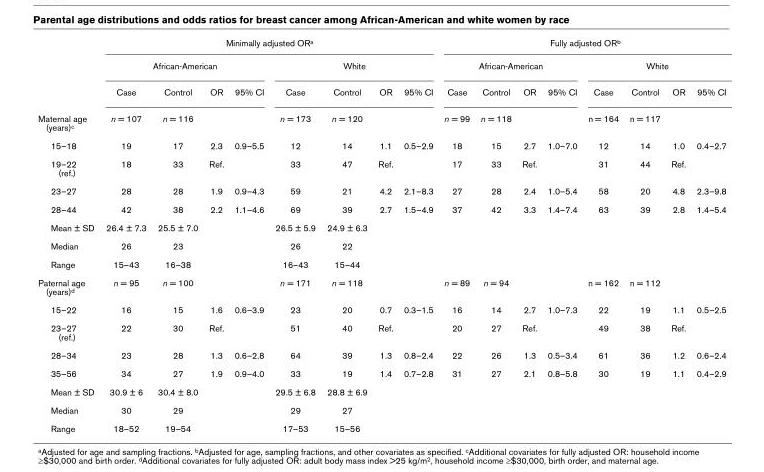table: (37, 36, 725, 433)
table column: (37, 36, 99, 433), (99, 36, 151, 433), (268, 36, 320, 433), (320, 36, 372, 433), (151, 36, 202, 433), (474, 36, 516, 433), (581, 36, 623, 433), (623, 36, 665, 433), (228, 36, 268, 433), (397, 36, 437, 433), (541, 36, 581, 433), (437, 36, 474, 433), (690, 36, 725, 433), (202, 36, 228, 433), (372, 36, 397, 433), (516, 36, 541, 433), (665, 36, 690, 433)
table column header: (37, 36, 725, 104)
table row: (37, 104, 725, 135), (37, 272, 725, 300), (37, 154, 725, 181), (37, 318, 725, 345), (37, 78, 725, 104), (37, 53, 725, 78), (37, 135, 725, 154), (37, 199, 725, 218), (37, 363, 725, 382), (37, 181, 725, 199), (37, 218, 725, 236), (37, 236, 725, 254), (37, 254, 725, 272), (37, 300, 725, 318), (37, 345, 725, 363), (37, 382, 725, 400), (37, 400, 725, 418), (37, 36, 725, 53), (37, 418, 725, 433)
table spanning cell: (99, 36, 437, 53), (437, 36, 725, 53), (99, 53, 268, 78), (268, 53, 437, 78), (437, 53, 581, 78), (581, 53, 725, 78)
